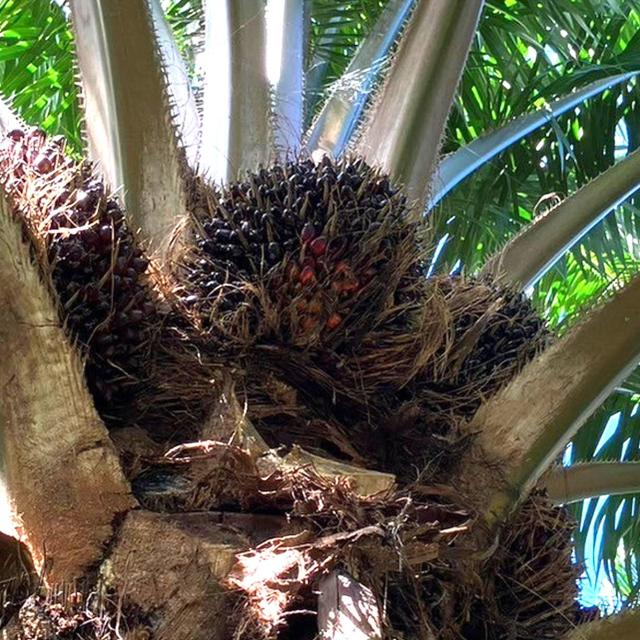ripe: (175, 137, 448, 430)
